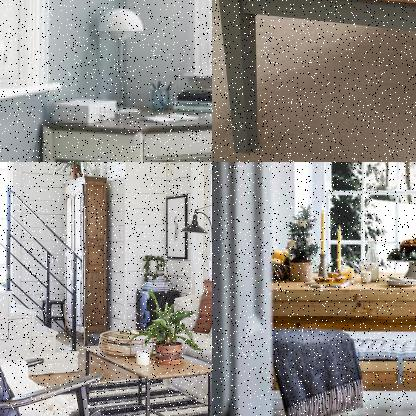table: (212, 0, 415, 161), (247, 260, 415, 415), (40, 97, 211, 161), (73, 338, 211, 415)
